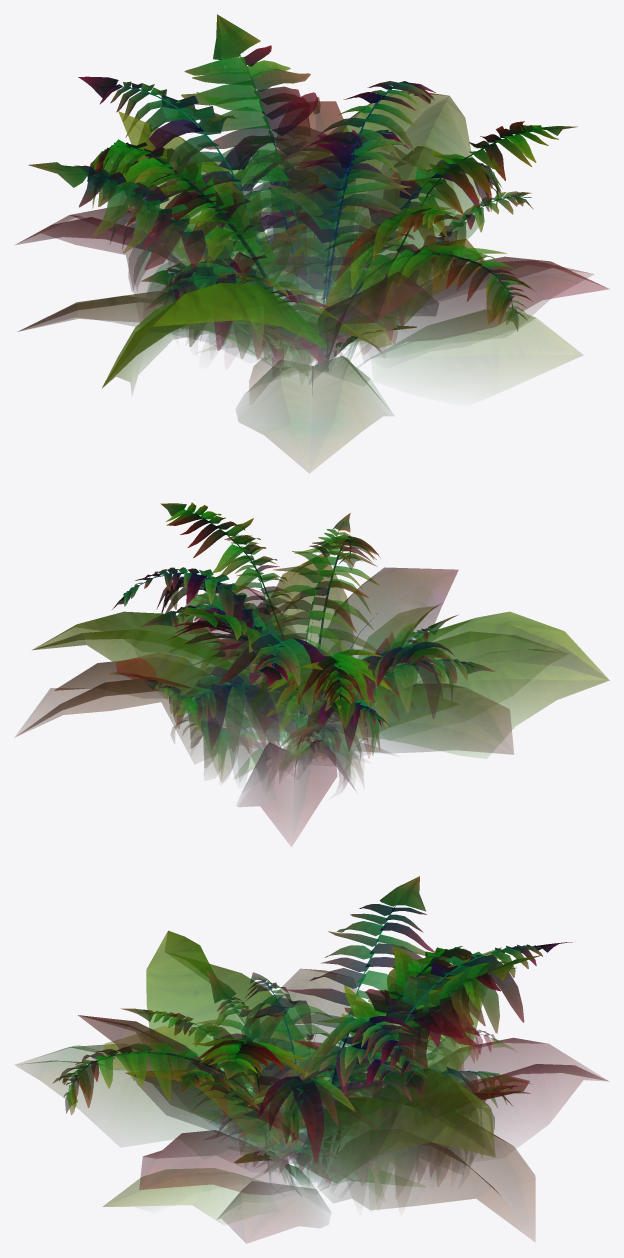
File: vmkpdbeia_tier_2.gltf
The picture shows the model from 3 angles, top to bottom: view 1: azimuth 30°, elevation 25°; view 2: azimuth 150°, elevation 25°; view 3: azimuth 270°, elevation 25°; orthographic projection. The views are drawn at different scales.
Visible parts, largest first — view 1: SM_vmkpdbeia_VarA, SM_vmkpdbeia_VarD, SM_vmkpdbeia_VarE, SM_vmkpdbeia_VarF, SM_vmkpdbeia_VarG, SM_vmkpdbeia_VarH, SM_vmkpdbeia_VarC; view 2: SM_vmkpdbeia_VarA, SM_vmkpdbeia_VarD, SM_vmkpdbeia_VarF, SM_vmkpdbeia_VarE, SM_vmkpdbeia_VarG, SM_vmkpdbeia_VarH, SM_vmkpdbeia_VarC; view 3: SM_vmkpdbeia_VarA, SM_vmkpdbeia_VarD, SM_vmkpdbeia_VarE, SM_vmkpdbeia_VarF, SM_vmkpdbeia_VarG, SM_vmkpdbeia_VarC.
Boxes of the visible parts, left/top/right/bottom form: SM_vmkpdbeia_VarA: left=15, top=76, right=593, bottom=472; SM_vmkpdbeia_VarD: left=17, top=14, right=608, bottom=370; SM_vmkpdbeia_VarE: left=180, top=81, right=535, bottom=365; SM_vmkpdbeia_VarF: left=87, top=139, right=502, bottom=369; SM_vmkpdbeia_VarG: left=126, top=129, right=412, bottom=362; SM_vmkpdbeia_VarH: left=141, top=257, right=309, bottom=367; SM_vmkpdbeia_VarC: left=249, top=325, right=416, bottom=392; SM_vmkpdbeia_VarA: left=32, top=502, right=609, bottom=846; SM_vmkpdbeia_VarD: left=15, top=513, right=513, bottom=789; SM_vmkpdbeia_VarF: left=156, top=576, right=495, bottom=758; SM_vmkpdbeia_VarE: left=109, top=534, right=459, bottom=747; SM_vmkpdbeia_VarG: left=140, top=594, right=458, bottom=738; SM_vmkpdbeia_VarH: left=287, top=698, right=390, bottom=761; SM_vmkpdbeia_VarC: left=233, top=711, right=391, bottom=778; SM_vmkpdbeia_VarA: left=15, top=876, right=608, bottom=1243; SM_vmkpdbeia_VarD: left=78, top=947, right=542, bottom=1241; SM_vmkpdbeia_VarE: left=52, top=1016, right=530, bottom=1183; SM_vmkpdbeia_VarF: left=189, top=946, right=533, bottom=1186; SM_vmkpdbeia_VarG: left=196, top=947, right=445, bottom=1172; SM_vmkpdbeia_VarC: left=234, top=1150, right=423, bottom=1188.
Size of what is drawn, in the model's own units: 1.23 by 0.622 by 1.25.
1 material, 1 textured.
